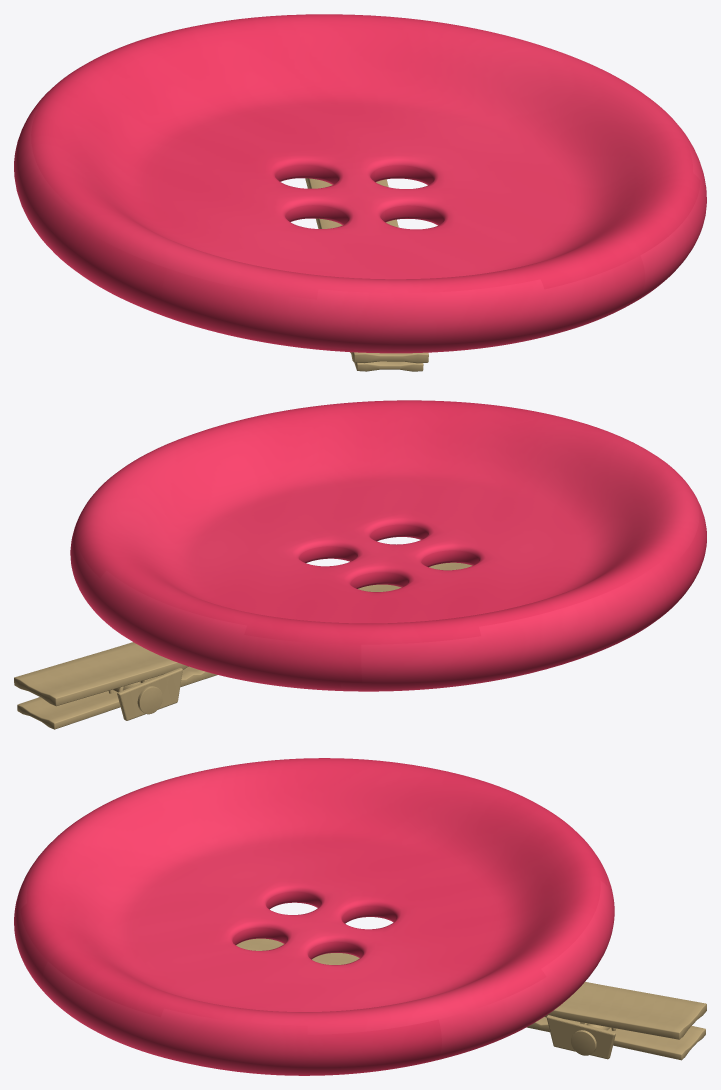
File: HairClip_Candy.glb
The picture shows the model from 3 angles, top to bottom: view 1: azimuth 30°, elevation 25°; view 2: azimuth 150°, elevation 25°; view 3: azimuth 270°, elevation 25°; orthographic projection. The views are drawn at different scales.
Parts seen in each view (by area): view 1: HairClip_Candy__Pink_Four_Hole_Button, HairClip_Candy__Fixed_Serrated_Jaw, HairClip_Candy__Moving_Jaw_Static_Pose; view 2: HairClip_Candy__Pink_Four_Hole_Button, HairClip_Candy__Fixed_Serrated_Jaw, HairClip_Candy__Moving_Jaw_Static_Pose, HairClip_Candy__Pivot_Cheek_L, HairClip_Candy__Pivot_Head_L; view 3: HairClip_Candy__Pink_Four_Hole_Button, HairClip_Candy__Fixed_Serrated_Jaw, HairClip_Candy__Moving_Jaw_Static_Pose, HairClip_Candy__Pivot_Cheek_R, HairClip_Candy__Pivot_Head_R.
Boxes of the visible parts, left/top/right/bottom form: HairClip_Candy__Pink_Four_Hole_Button: left=14, top=14, right=706, bottom=353; HairClip_Candy__Fixed_Serrated_Jaw: left=306, top=178, right=428, bottom=363; HairClip_Candy__Moving_Jaw_Static_Pose: left=305, top=178, right=423, bottom=371; HairClip_Candy__Pink_Four_Hole_Button: left=70, top=400, right=706, bottom=691; HairClip_Candy__Fixed_Serrated_Jaw: left=14, top=562, right=472, bottom=706; HairClip_Candy__Moving_Jaw_Static_Pose: left=17, top=666, right=217, bottom=729; HairClip_Candy__Pivot_Cheek_L: left=117, top=668, right=182, bottom=720; HairClip_Candy__Pivot_Head_L: left=137, top=686, right=162, bottom=714; HairClip_Candy__Pink_Four_Hole_Button: left=14, top=758, right=614, bottom=1075; HairClip_Candy__Fixed_Serrated_Jaw: left=236, top=938, right=706, bottom=1039; HairClip_Candy__Moving_Jaw_Static_Pose: left=527, top=1017, right=705, bottom=1060; HairClip_Candy__Pivot_Cheek_R: left=546, top=1015, right=615, bottom=1059; HairClip_Candy__Pivot_Head_R: left=571, top=1030, right=596, bottom=1055.
Size of the model in its own units: 39.85 by 8.21 by 46.02.
Materials: 2 (2 with a texture image).
